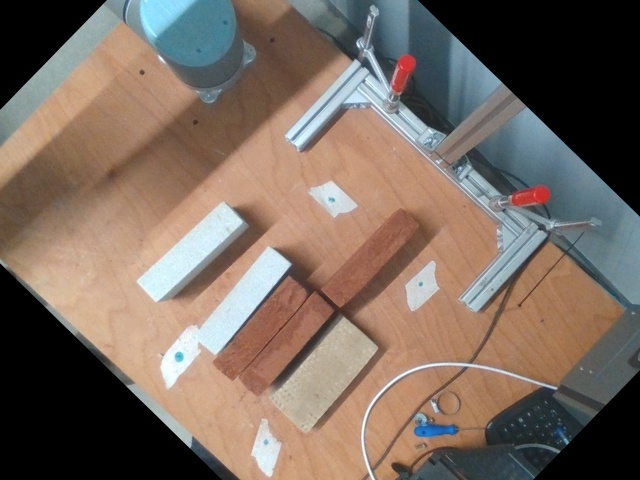brick: (270, 317, 378, 430)
brick-side: (138, 202, 242, 303), (194, 246, 289, 355), (213, 276, 310, 380), (237, 293, 334, 396), (323, 211, 418, 307)
